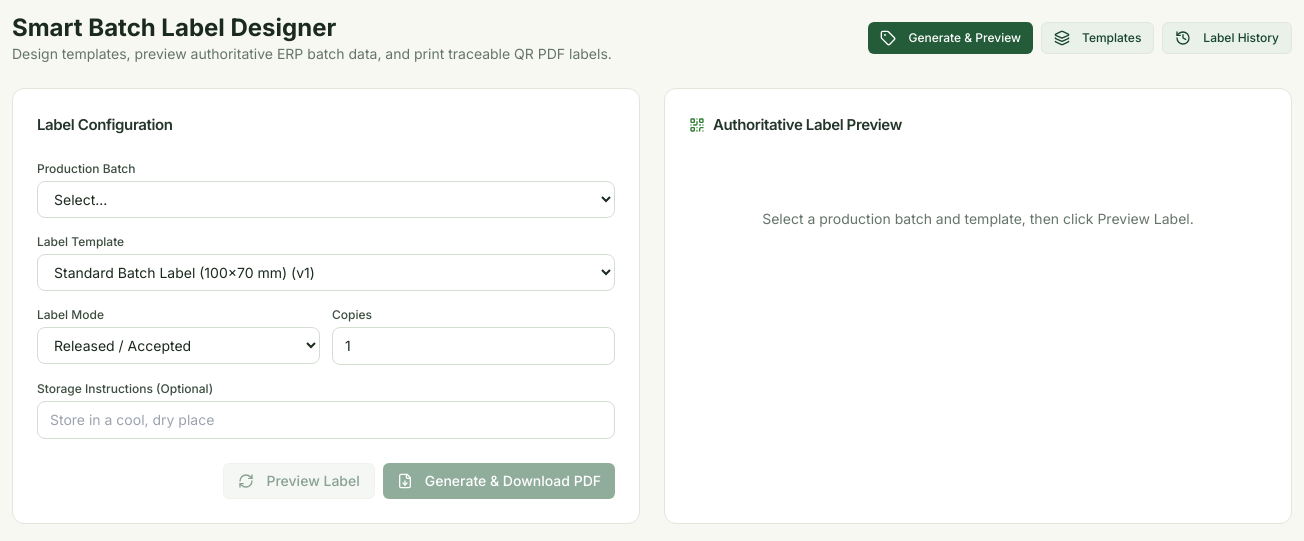
Phase 8: Smart Batch Label Designer UI › 1. Previews authoritative batch label data with QR and allergen declaration
Select "PB-2026-0001 (COMPLETED)" in the dropdown named "Production Batch": [326, 200] box [37,181,615,218]
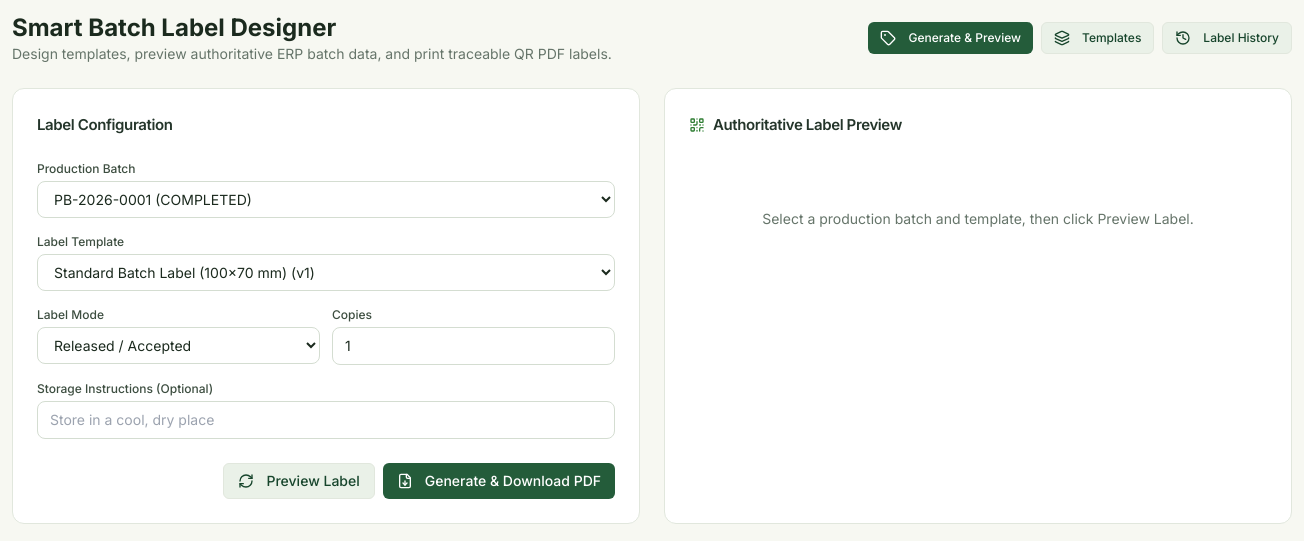
Click the button "Preview Label": [299, 481] box [224,463,375,499]
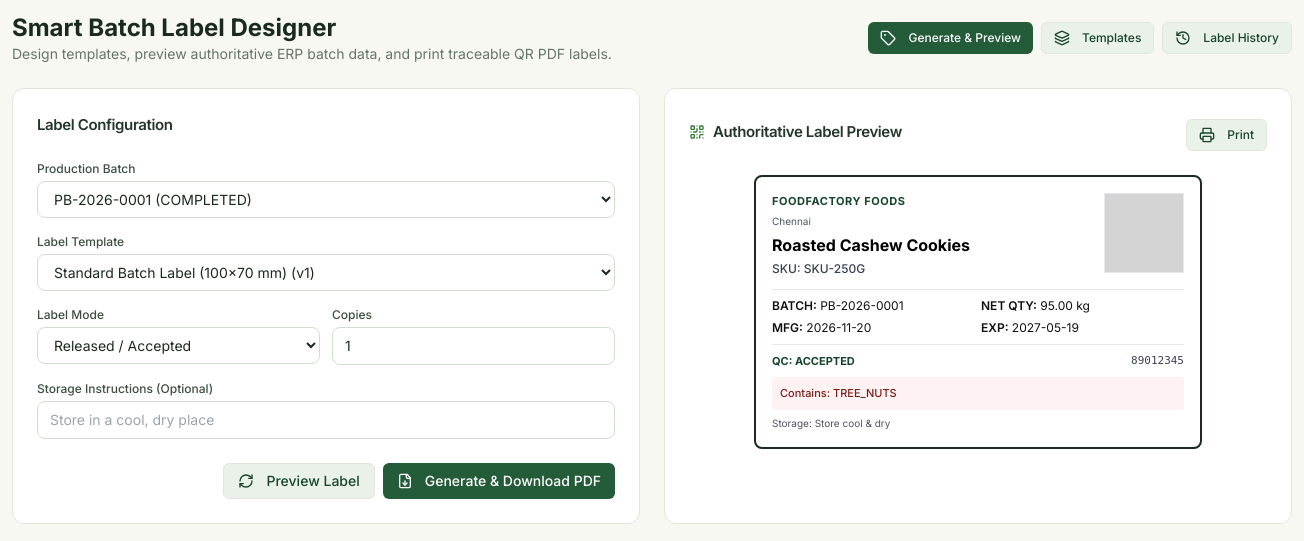
Result: the heading "Roasted Cashew Cookies" is shown at [772,232,970,256]
Result: the text "Contains: TREE_NUTS" is shown at [772,377,1184,410]
